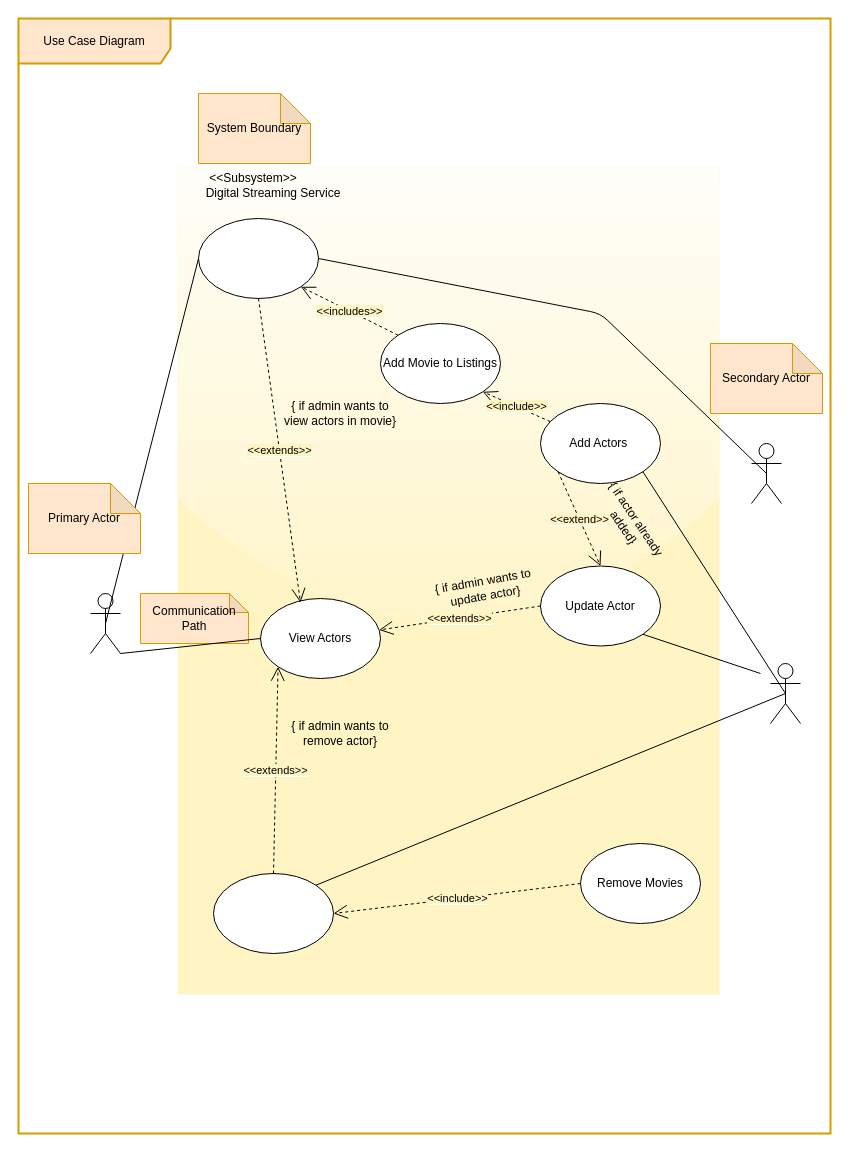
The diagram is 848 pixels wide and 1151 high, and some of its shapes have lost their labels. Each missing label, with the centre of its shape:
<<Service>> Authentication: point (766, 473)
<<Service>> Database: point (785, 693)
Admin: point (105, 623)
Remove Actor: point (273, 913)
View Unreleased Movie: point (258, 258)
